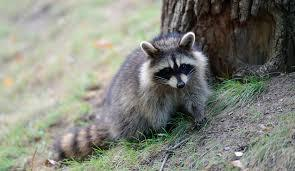raccoon: (32, 20, 224, 169)
